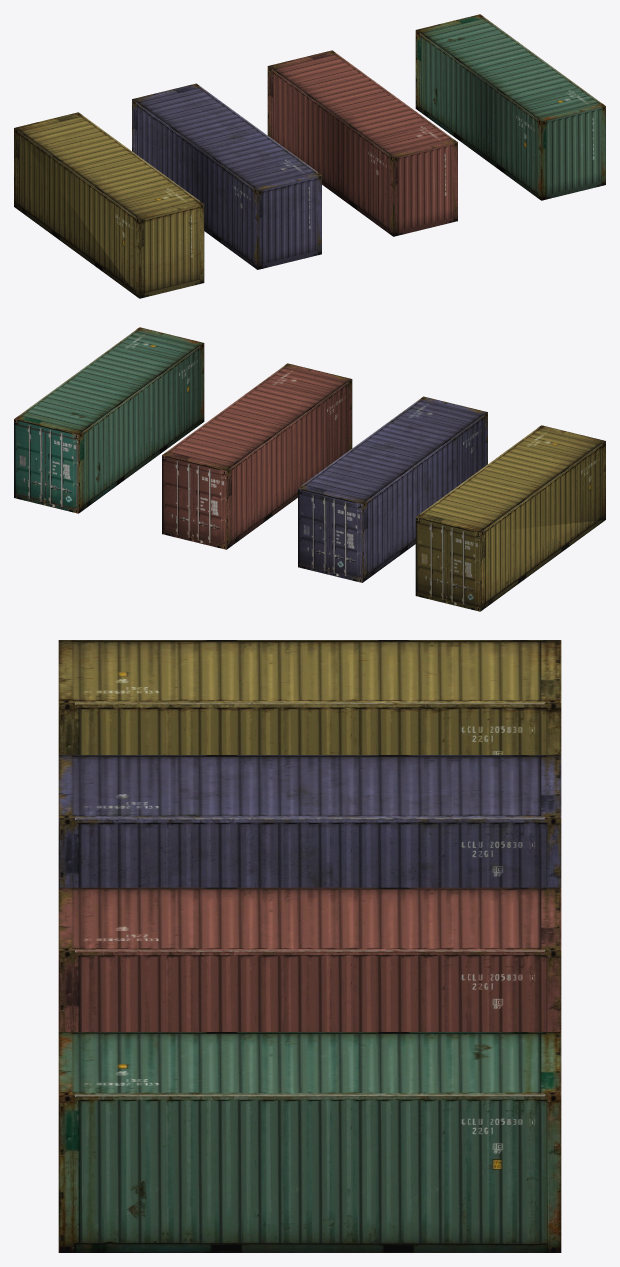
Rendered from Container.FBX.
3 views of the same model, one above another, from view 1: azimuth 30°, elevation 25°; view 2: azimuth 150°, elevation 25°; view 3: azimuth 270°, elevation 25° (orthographic). The views are drawn at different scales.
Visible parts, largest first — view 1: 1, 4, 2, 3; view 2: 1, 4, 2, 3; view 3: 1, 2, 3, 4.
Boxes of the visible parts, box(x1,y1,x2,y2) form: 1: box(415, 14, 605, 200); 4: box(14, 112, 204, 298); 2: box(267, 50, 457, 236); 3: box(132, 83, 321, 269); 1: box(14, 327, 204, 513); 4: box(415, 425, 605, 611); 2: box(162, 363, 352, 549); 3: box(298, 396, 487, 582); 1: box(58, 1032, 561, 1252); 2: box(58, 887, 561, 1031); 3: box(58, 755, 561, 887); 4: box(58, 640, 561, 754).
Bounding box in the file's own units: 179 × 29 × 83.68.
Materials: 1 (1 with a texture image).
